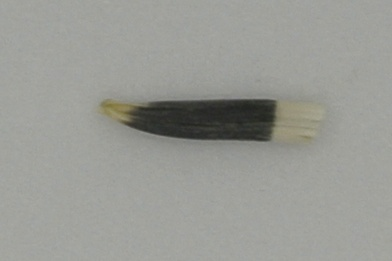เมล็ดดีติดกัน: (96, 97, 335, 147)
